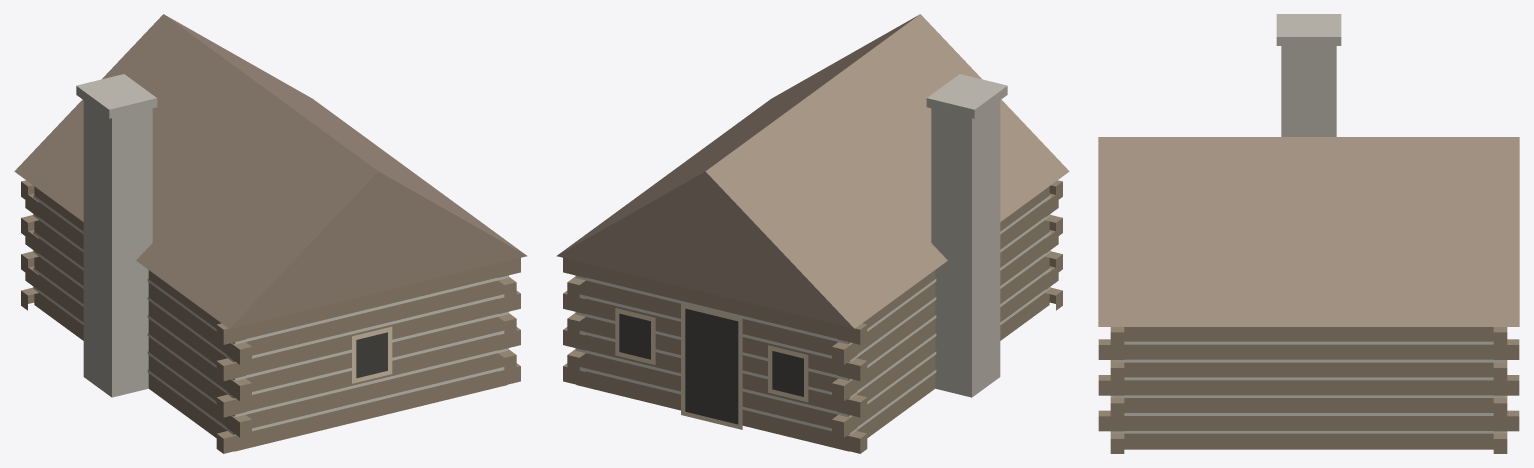
File: recon_1835_blk_south_water_lasalle_d1_04__inferred_1835.glb
The picture shows the model from 3 angles, left to right: view 1: azimuth 30°, elevation 25°; view 2: azimuth 150°, elevation 25°; view 3: azimuth 270°, elevation 25°; orthographic projection. The views are drawn at different scales.
Visible parts, largest first — view 1: recon_1835_blk_south_water_lasalle_d1_04__inferred_1835; view 2: recon_1835_blk_south_water_lasalle_d1_04__inferred_1835; view 3: recon_1835_blk_south_water_lasalle_d1_04__inferred_1835.
Boxes of the visible parts, bbox=[...] form: recon_1835_blk_south_water_lasalle_d1_04__inferred_1835: bbox=[14, 14, 527, 453]; recon_1835_blk_south_water_lasalle_d1_04__inferred_1835: bbox=[556, 14, 1069, 453]; recon_1835_blk_south_water_lasalle_d1_04__inferred_1835: bbox=[1098, 14, 1519, 453].
Size of the model in its own units: 6.41 by 5.51 by 7.29.
